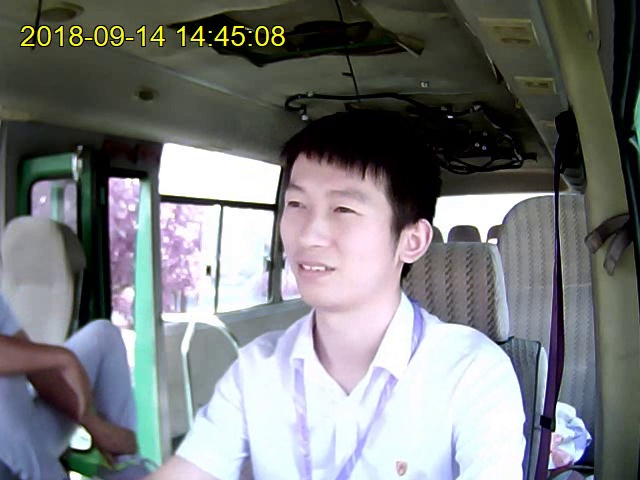closed_mouth: (292, 258, 333, 279)
